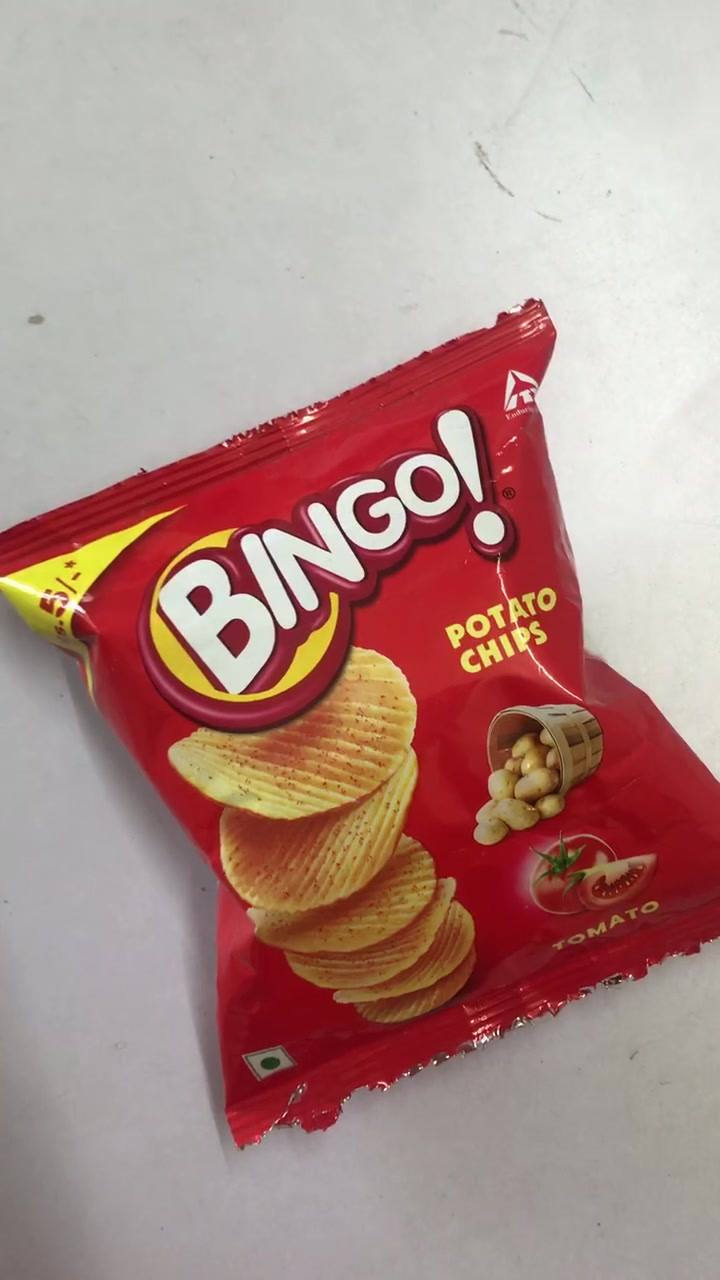Bingo: (2, 307, 720, 1138)
